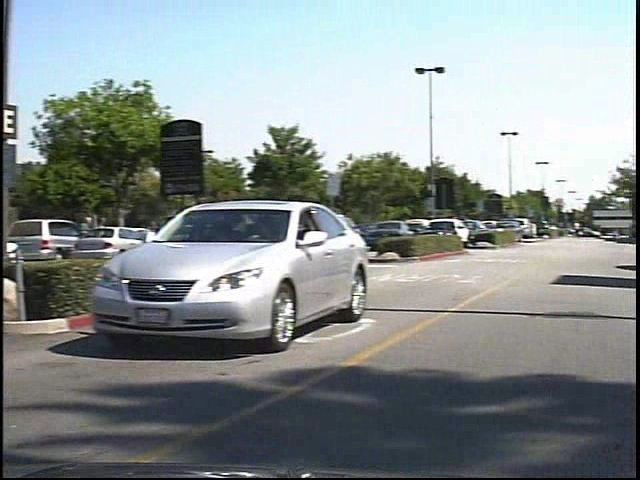person: (87, 211, 114, 261)
